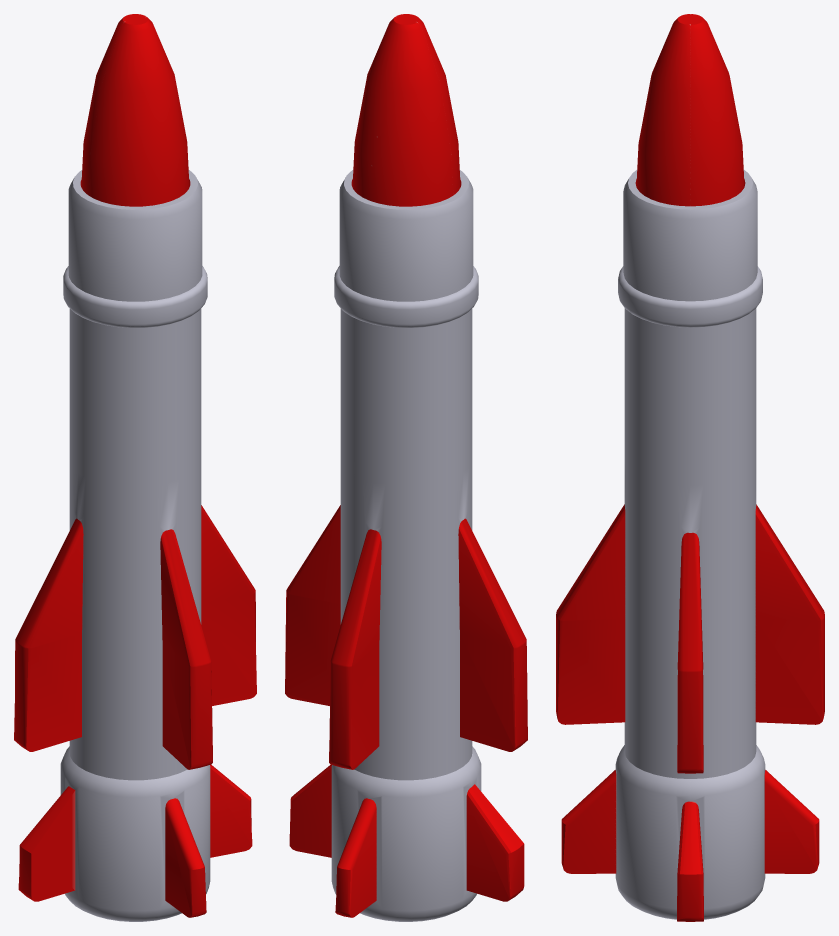
Rendered from Missile.fbx.
3 views of the same model, side by side, from view 1: azimuth 30°, elevation 25°; view 2: azimuth 150°, elevation 25°; view 3: azimuth 270°, elevation 25° (orthographic).
Visible parts, largest first — view 1: DualMissile; view 2: DualMissile; view 3: DualMissile.
Part boxes in pixels (x1,y1,x2,y2): DualMissile: (14, 14, 256, 921); DualMissile: (285, 14, 527, 921); DualMissile: (556, 14, 824, 921).
Bounding box in the file's own units: 1.21 × 4.34 × 1.21.
1 material, 1 textured.
